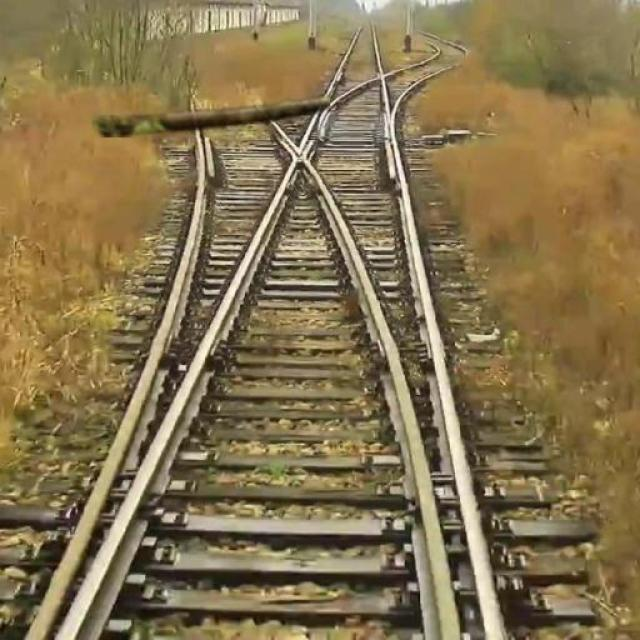Branches: (84, 95, 340, 138)
